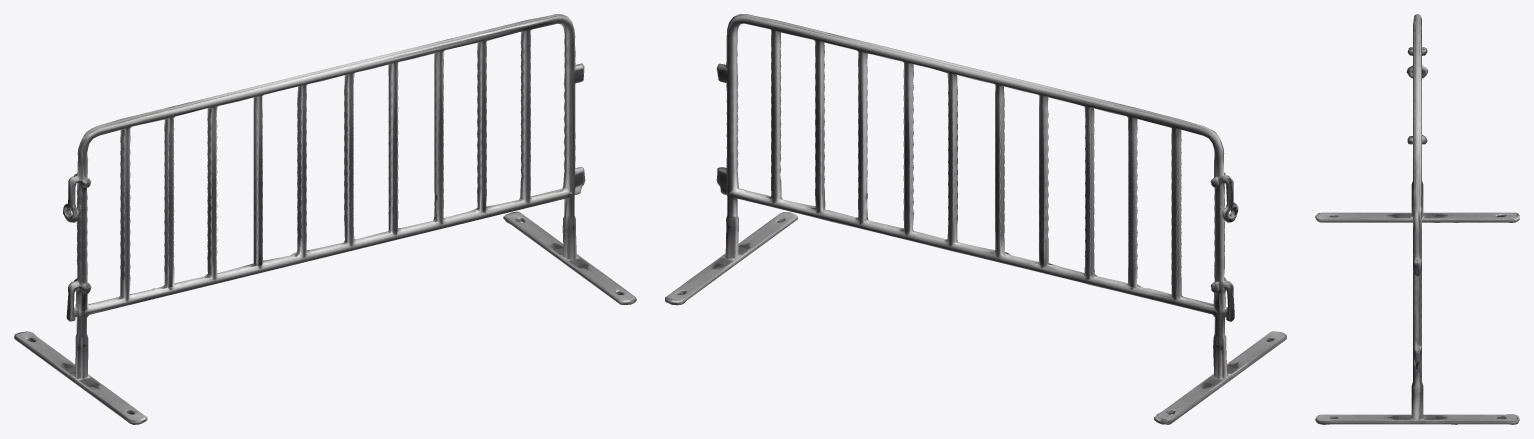
The model's file is Galvanized_Fence_Panel_90LX43H_0419024414_texture.glb.
3 renders of one model, left to right at view 1: azimuth 30°, elevation 25°; view 2: azimuth 150°, elevation 25°; view 3: azimuth 270°, elevation 25°, orthographic. The views are drawn at different scales.
Visible parts, largest first — view 1: Mesh_0; view 2: Mesh_0; view 3: Mesh_0.
Part boxes in pixels (x1,y1,x2,y2): Mesh_0: (14, 14, 636, 424); Mesh_0: (665, 14, 1286, 424); Mesh_0: (1315, 14, 1519, 424).
Size of the model in its own units: 2.18 by 1.02 by 0.8817.
Materials: 1 (1 with a texture image).
